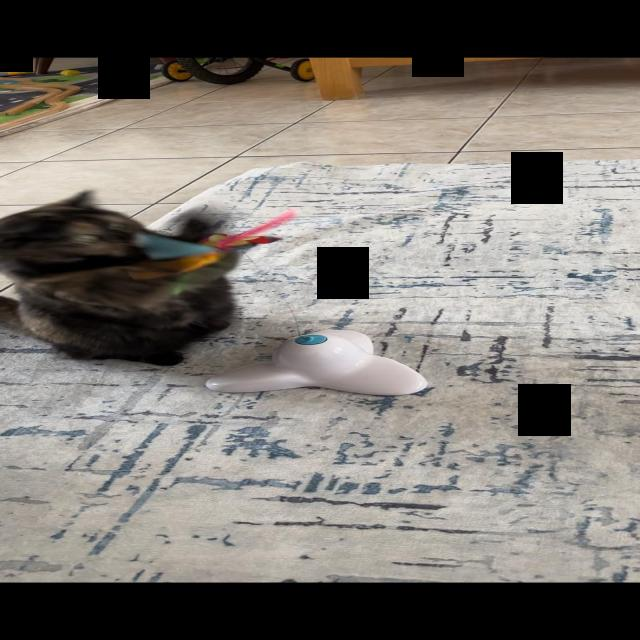authorized: (0, 189, 245, 366)
